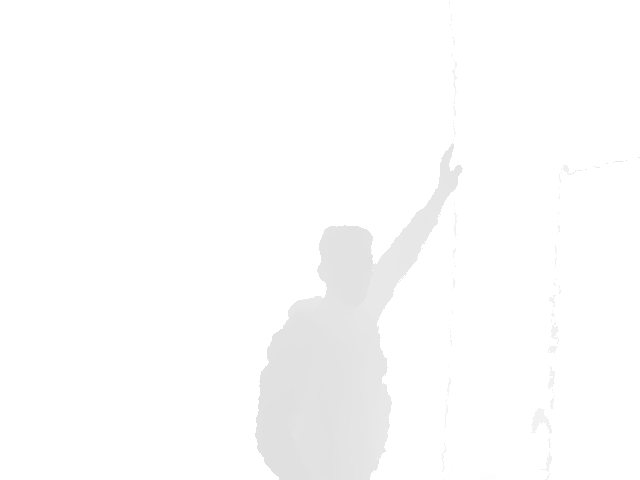hand: (438, 141, 465, 195)
head: (316, 224, 376, 308)
person: (252, 141, 465, 479)
